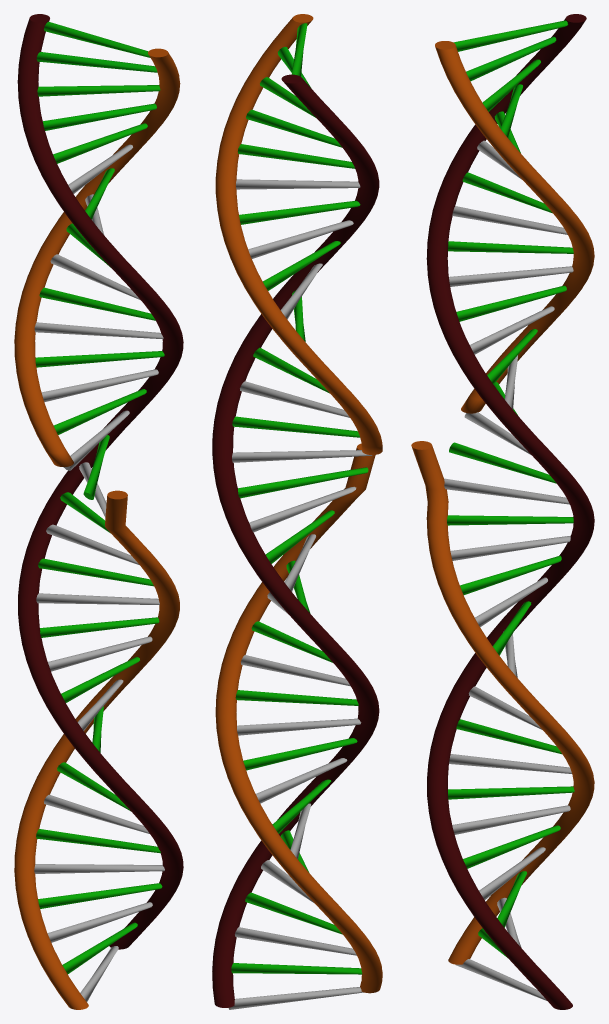
File: dna_single_broken.obj
3 views of the same model, side by side, from view 1: azimuth 30°, elevation 25°; view 2: azimuth 150°, elevation 25°; view 3: azimuth 270°, elevation 25° (orthographic).
Visible parts, largest first — view 1: Cylinder_0, Cylinder_1_1, Cylinder_31, Cylinder_1_12, Cylinder_11, Cylinder_1_30, Cylinder_1_32, Cylinder_21, Cylinder_1_2, Cylinder_1, Cylinder_1_22, Cylinder_13 (+21 smaller); view 2: Cylinder_1_1, Cylinder_0, Cylinder_15, Cylinder_1_34, Cylinder_1_16, Cylinder_35, Cylinder_1_14, Cylinder_5, Cylinder_25, Cylinder_33, Cylinder_1_24, Cylinder_1_6 (+20 smaller); view 3: Cylinder_0, Cylinder_1_1, Cylinder_17, Cylinder_1_18, Cylinder_1_28, Cylinder_1_8, Cylinder_9, Cylinder_27, Cylinder_19, Cylinder_29, Cylinder_7, Cylinder_1_16 (+18 smaller).
Part boxes in pixels (x1,y1,x2,y2): Cylinder_0: (17, 14, 183, 949); Cylinder_1_1: (14, 48, 180, 1009); Cylinder_31: (34, 864, 164, 873); Cylinder_1_12: (35, 351, 164, 367); Cylinder_11: (34, 322, 163, 339); Cylinder_1_30: (36, 829, 160, 853); Cylinder_1_32: (38, 883, 162, 908); Cylinder_21: (36, 593, 159, 604); Cylinder_1_2: (37, 85, 160, 96); Cylinder_1: (36, 52, 157, 72); Cylinder_1_22: (40, 617, 159, 637); Cylinder_13: (41, 369, 158, 402); Cylinder_1_1: (215, 14, 382, 993); Cylinder_0: (212, 74, 379, 1007); Cylinder_15: (232, 450, 372, 462); Cylinder_1_34: (231, 963, 362, 974); Cylinder_1_16: (238, 467, 368, 498); Cylinder_35: (228, 987, 363, 1009); Cylinder_1_14: (232, 416, 360, 437); Cylinder_5: (236, 179, 360, 189); Cylinder_25: (237, 718, 361, 735); Cylinder_33: (235, 927, 356, 955); Cylinder_1_24: (235, 690, 358, 705); Cylinder_1_6: (239, 200, 360, 224); Cylinder_0: (426, 14, 594, 1009); Cylinder_1_1: (411, 41, 594, 964); Cylinder_17: (444, 478, 569, 504); Cylinder_1_18: (447, 515, 573, 525); Cylinder_1_28: (448, 786, 574, 799); Cylinder_1_8: (448, 241, 573, 253); Cylinder_9: (449, 266, 573, 286); Cylinder_27: (449, 754, 571, 773); Cylinder_19: (450, 535, 570, 560); Cylinder_29: (452, 805, 570, 834); Cylinder_7: (452, 206, 567, 234); Cylinder_1_16: (449, 442, 556, 483).
Size of the model in its own units: 1.2 by 7.37 by 1.28.
